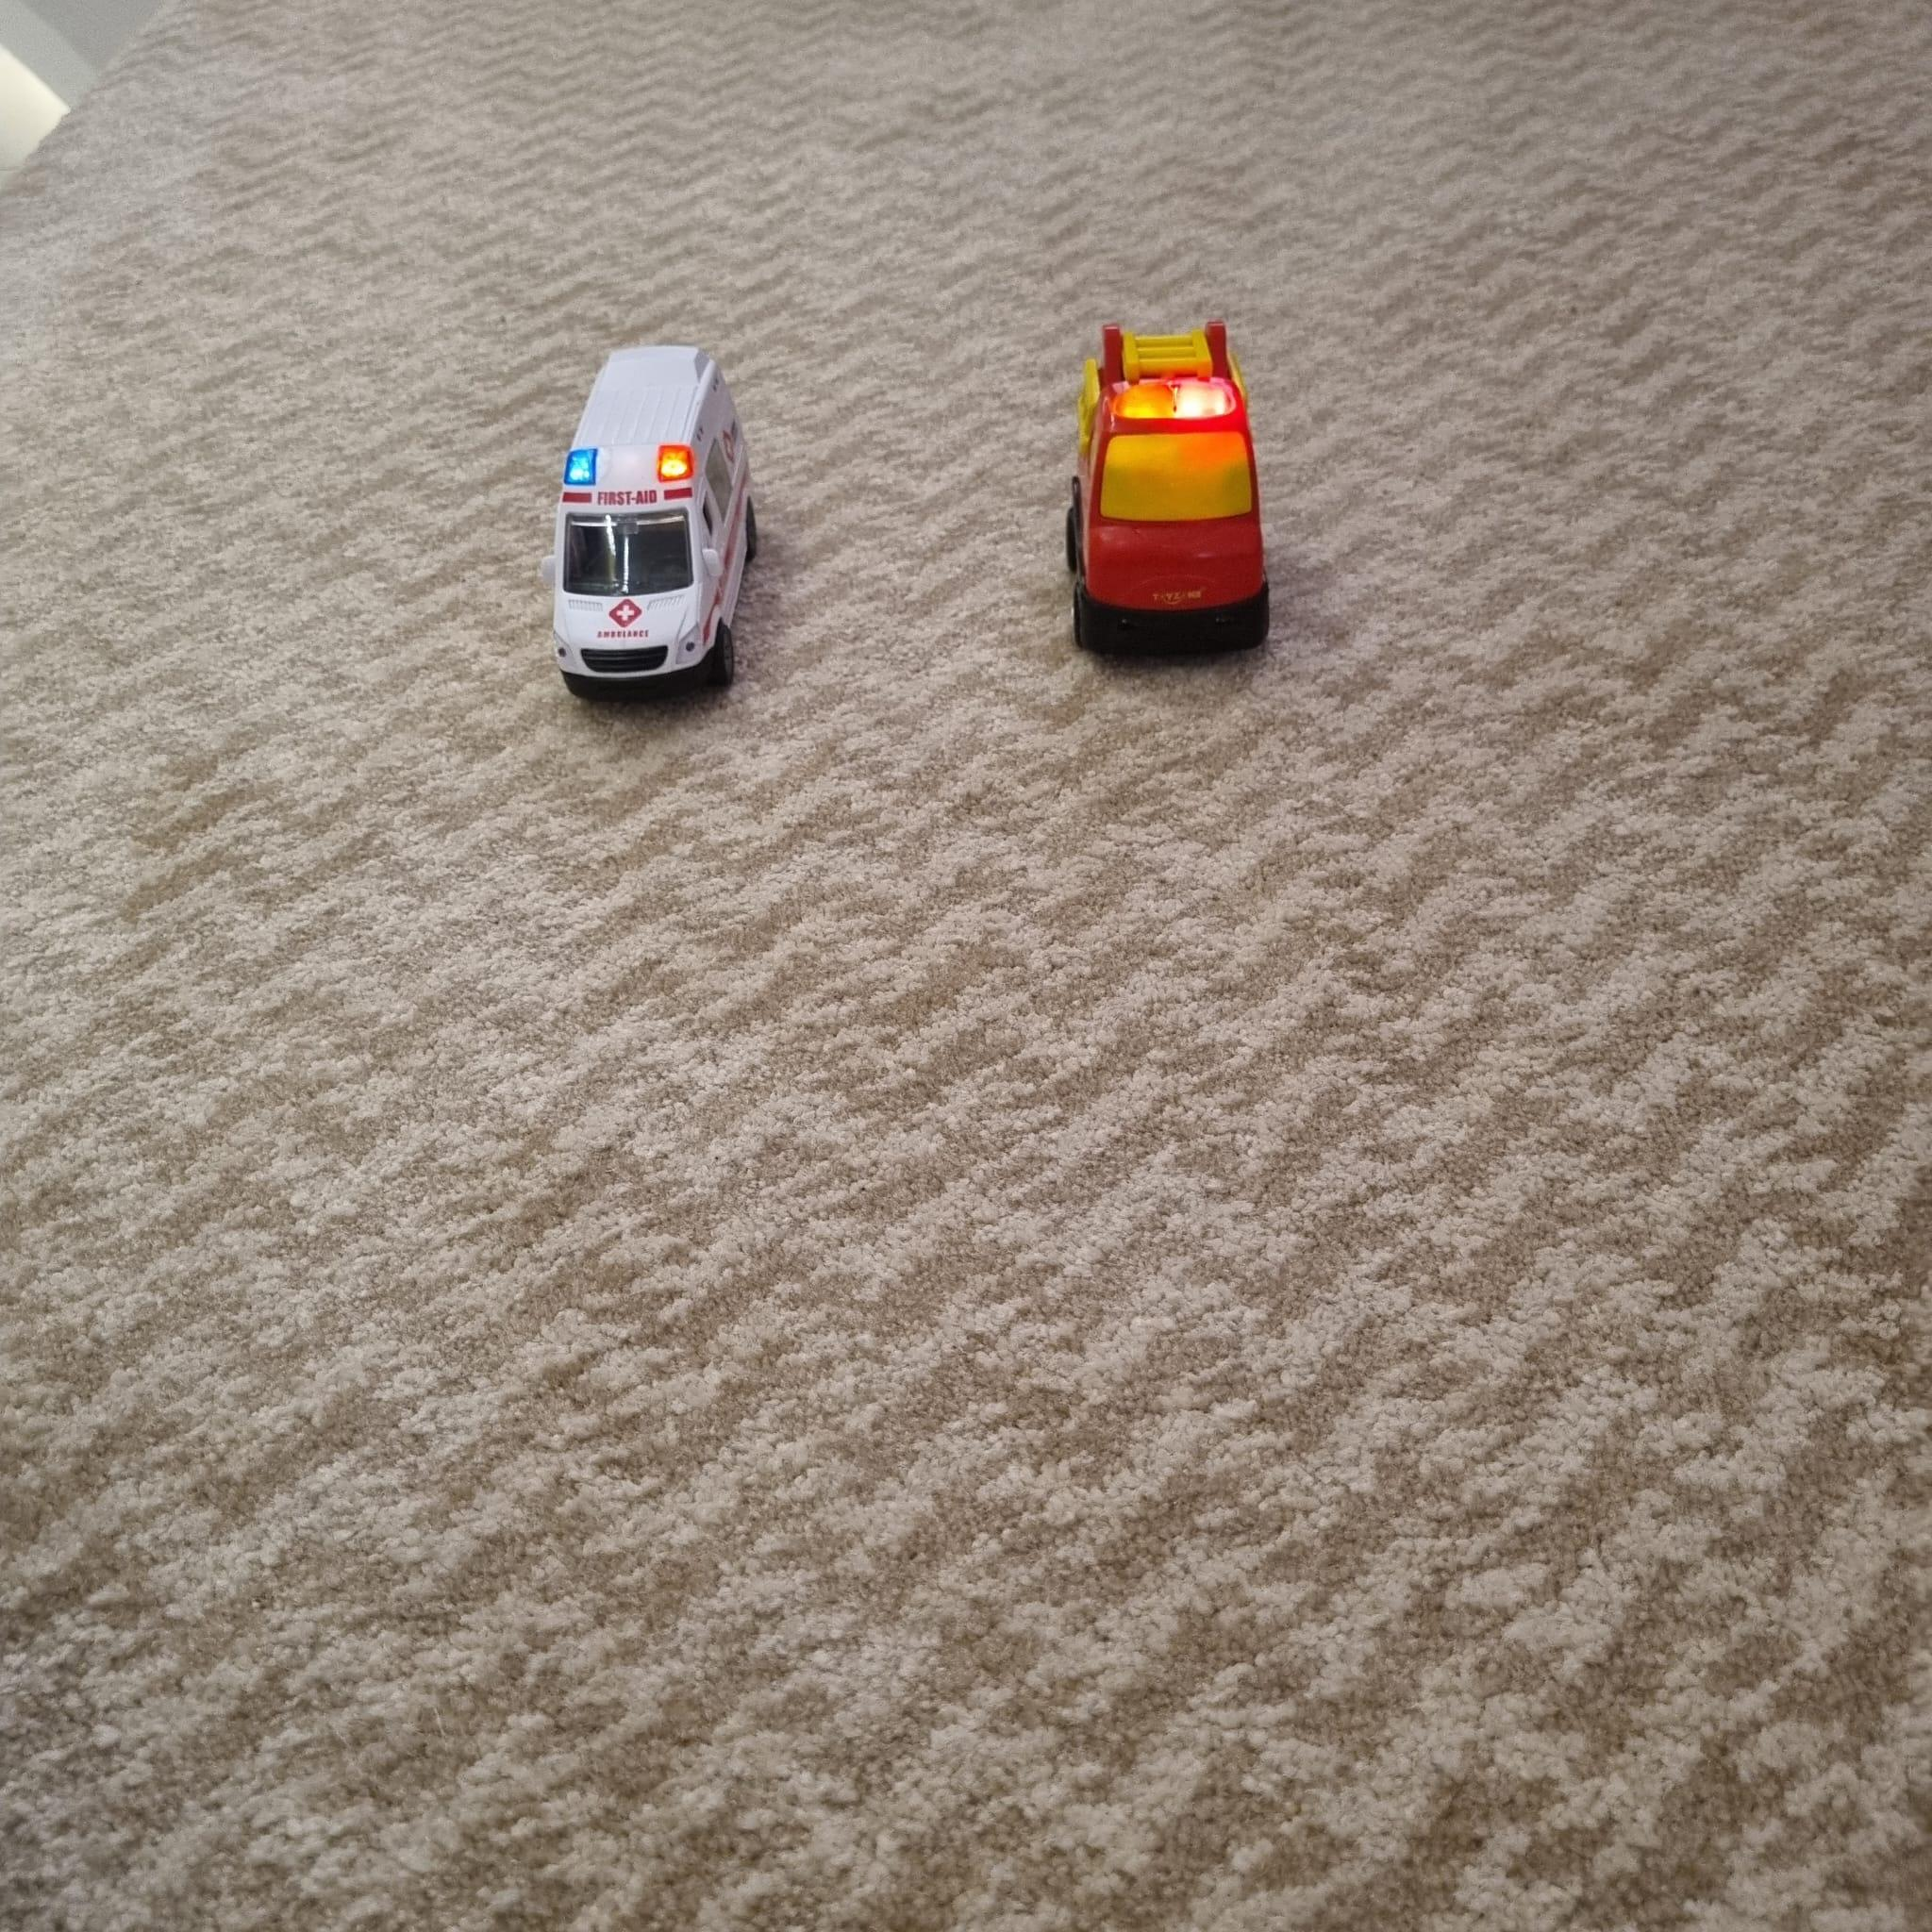ambulance_on: (536, 347, 757, 704)
firetruck_on: (1063, 324, 1272, 660)
